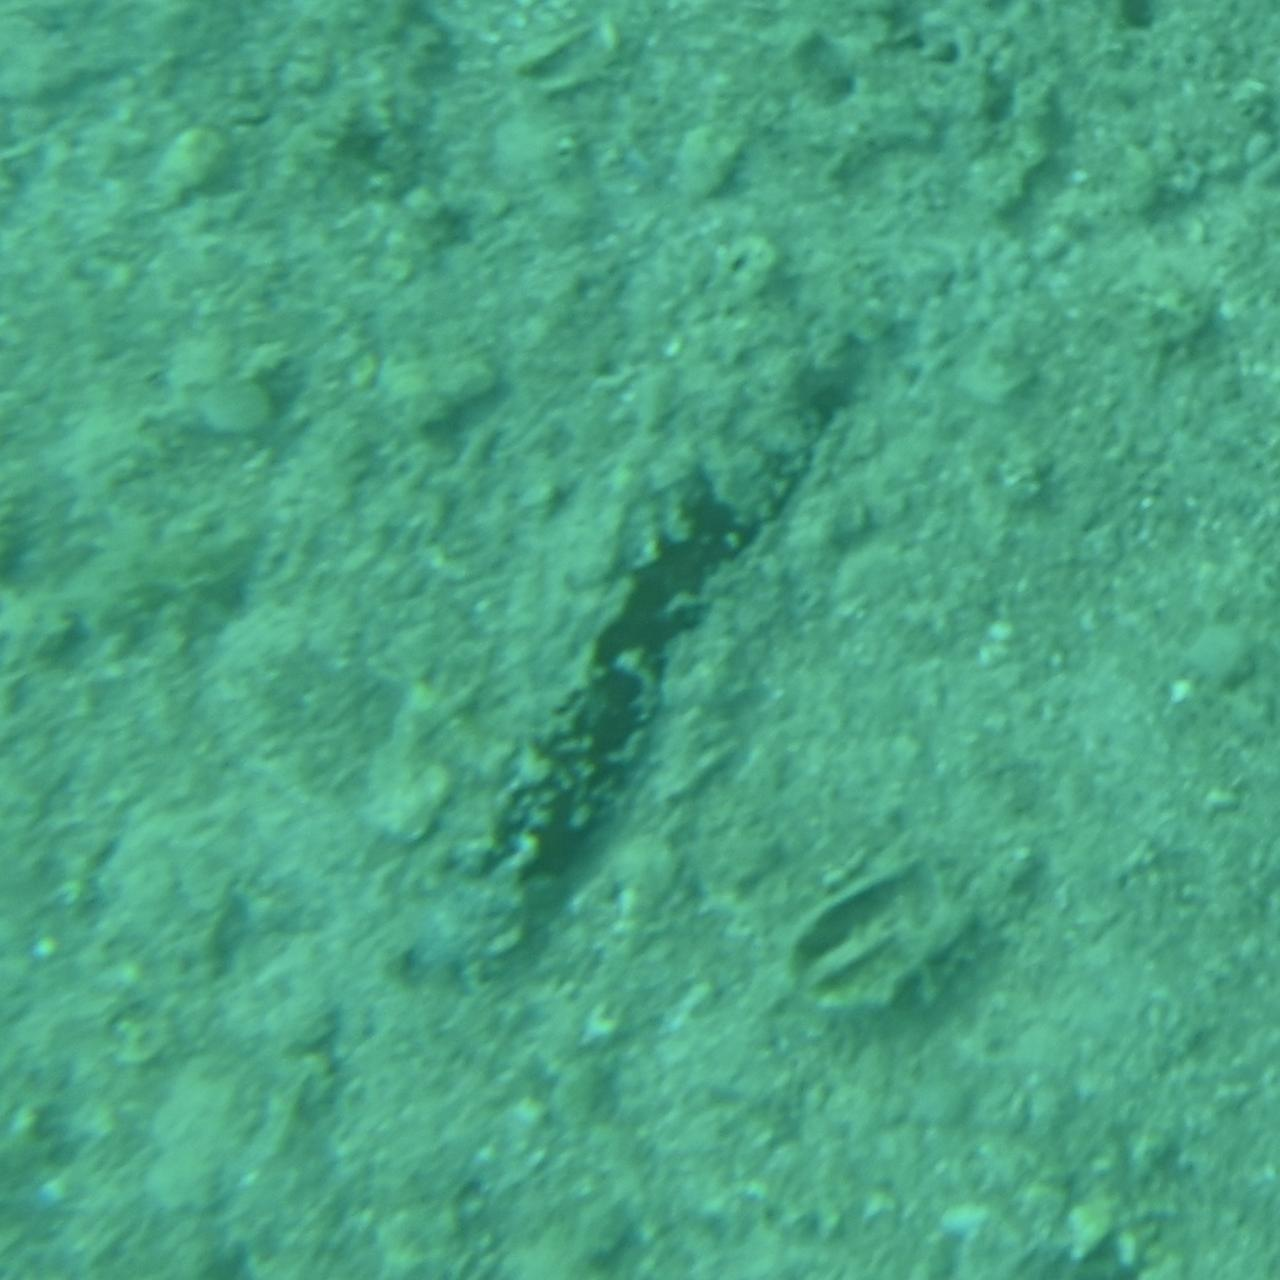Holothuria tubulosa: (406, 276, 874, 1004)
